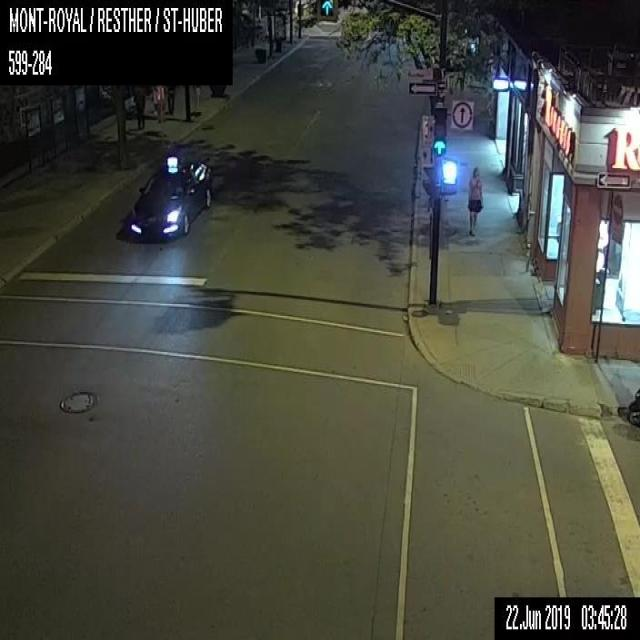pedestrian: (467, 167, 482, 235), (132, 84, 145, 128), (153, 84, 163, 123), (166, 82, 174, 114)
vehicle: (128, 154, 211, 240)
